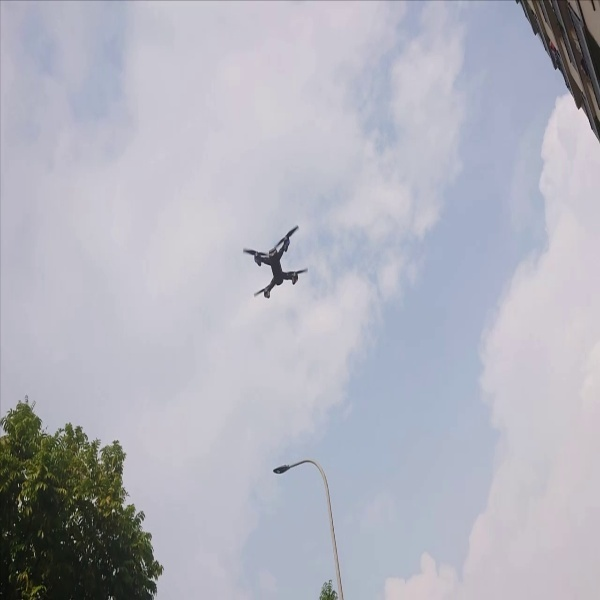drone: (235, 222, 311, 302)
